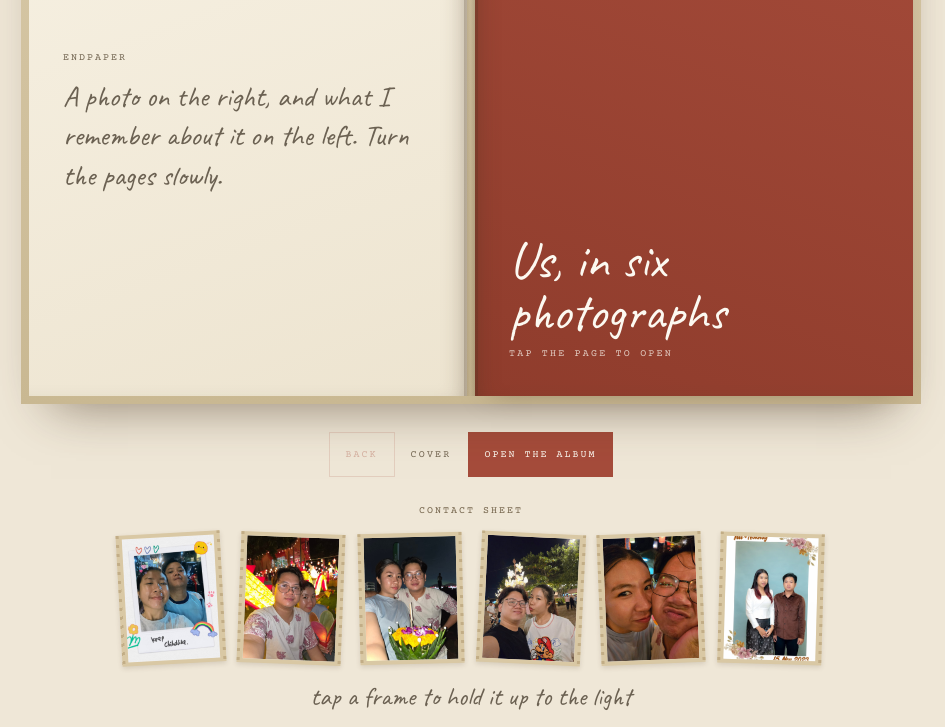
Test: AlbumSection › counts plates rather than spreads once open
(page scrolled)
Click the button with aria-label "Next page".
click(540, 454)  # box top-left (468, 432), bottom-right (614, 477)
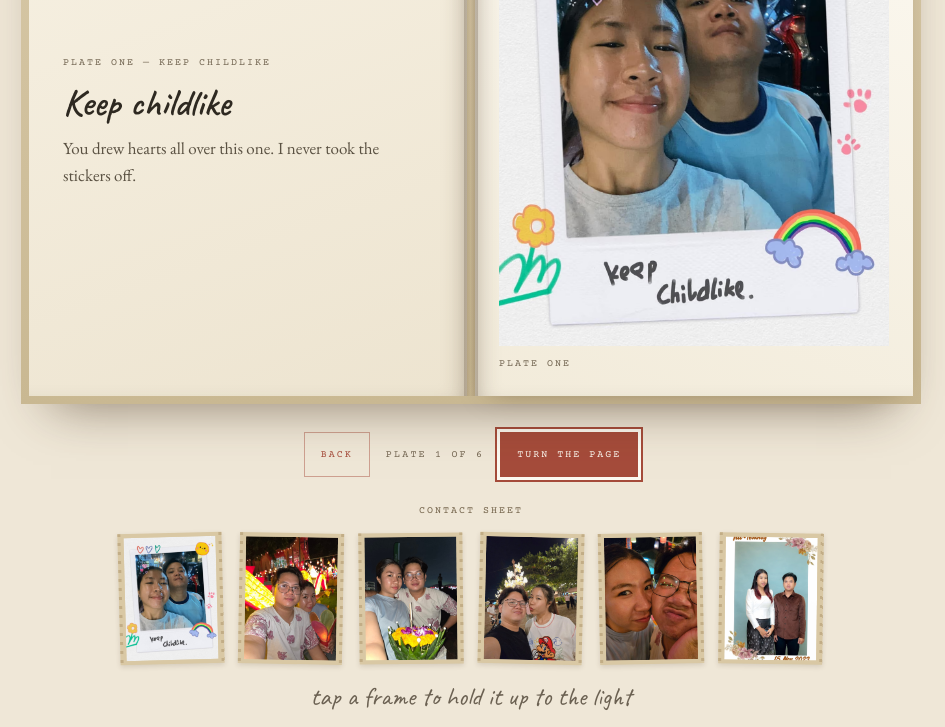
Now the button with aria-label "Next page" reads "turn the page", box top-left (500, 432), bottom-right (638, 477)
Now the button with aria-label "Previous page" is enabled, box top-left (304, 432), bottom-right (370, 477)
